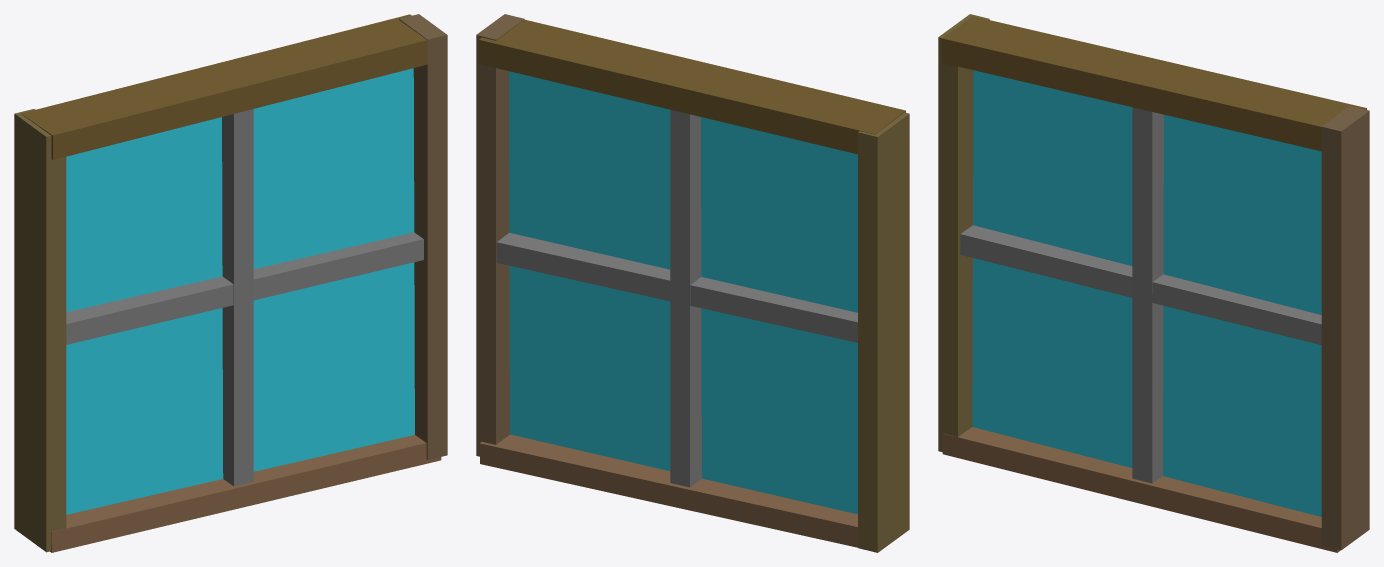
The model's file is window-frame-and-pane.obj.
The picture shows the model from 3 angles, left to right: view 1: azimuth 30°, elevation 25°; view 2: azimuth 150°, elevation 25°; view 3: azimuth 330°, elevation 25°; orthographic projection.
Visible parts, largest first — view 1: Box6, Box2, Box3, Box4, Box5, Box, Box1; view 2: Box6, Box2, Box3, Box4, Box5, Box, Box1; view 3: Box6, Box4, Box3, Box2, Box5, Box, Box1.
Part boxes in pixels (<box>): Box6: <box>66,68,414,514</box>; Box2: <box>14,109,66,552</box>; Box3: <box>21,14,427,159</box>; Box4: <box>399,14,447,459</box>; Box5: <box>50,435,441,552</box>; Box: <box>222,109,253,486</box>; Box1: <box>66,232,423,344</box>; Box6: <box>509,71,857,514</box>; Box2: <box>858,112,909,552</box>; Box3: <box>479,19,905,154</box>; Box4: <box>476,14,524,456</box>; Box5: <box>479,434,857,547</box>; Box: <box>670,109,701,487</box>; Box1: <box>496,232,857,342</box>; Box6: <box>972,70,1321,516</box>; Box4: <box>1321,106,1369,550</box>; Box3: <box>942,16,1366,151</box>; Box2: <box>938,14,989,452</box>; Box5: <box>942,427,1340,552</box>; Box: <box>1132,107,1163,483</box>; Box1: <box>960,225,1321,344</box>.
Bounding box in the file's own units: 1.67 × 1.69 × 0.2503.
